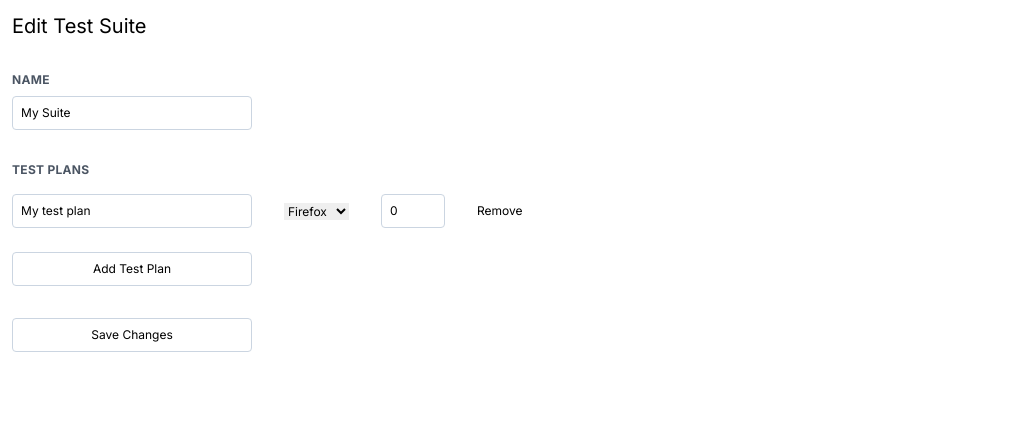
Test: ListTestSuitesRoute › requires a instruction count that is greater than 0.
Click the button "Save Changes". click: (132, 335)
box: [12,318,252,352]
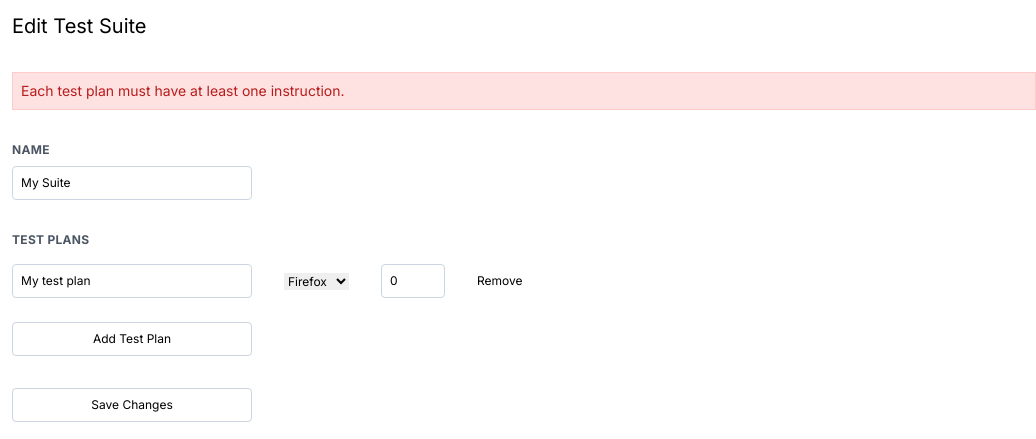
Result: the text with test id "error-message" reads "Each test plan must have at least one instruction." at [21,82,345,99]
